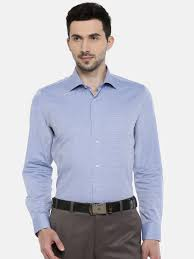F_belt: (47, 192, 144, 215)
F_dress pants: (45, 207, 142, 259)
F_shirt: (20, 65, 171, 241)
